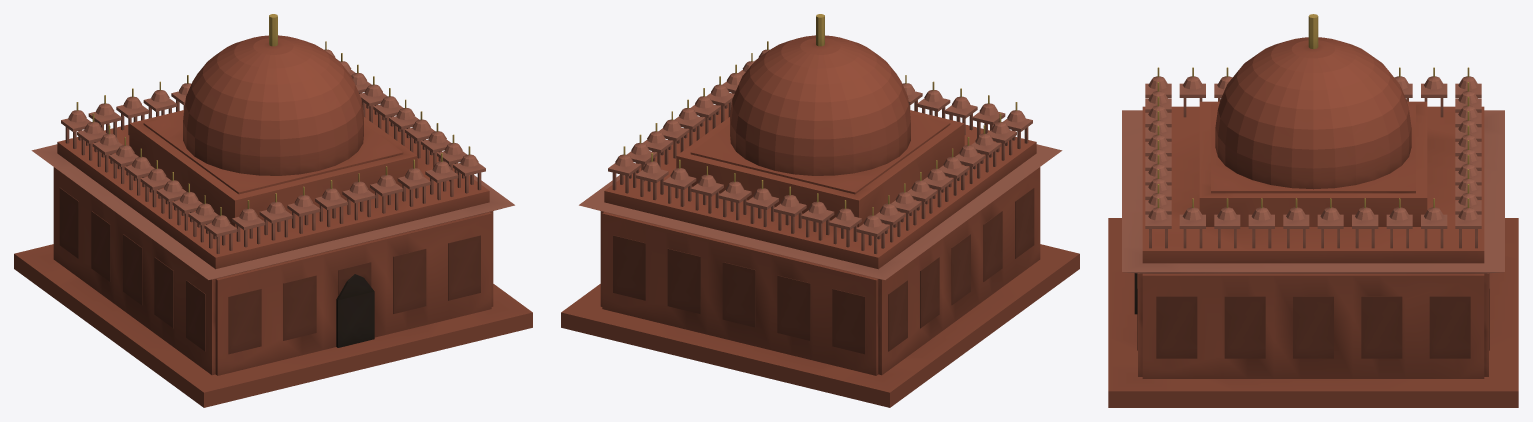
Rendered from islam-khan-tomb.glb.
The picture shows the model from 3 angles, left to right: view 1: azimuth 30°, elevation 25°; view 2: azimuth 150°, elevation 25°; view 3: azimuth 270°, elevation 25°; orthographic projection. The views are drawn at different scales.
Visible parts, largest first — view 1: p1_verandah, p2_dome and chhatris, p0_plinth; view 2: p1_verandah, p2_dome and chhatris, p0_plinth; view 3: p1_verandah, p2_dome and chhatris, p0_plinth.
Part boxes in pixels (bbox=[...]): p1_verandah: bbox=[31, 104, 514, 375]; p2_dome and chhatris: bbox=[61, 14, 485, 253]; p0_plinth: bbox=[14, 244, 532, 407]; p1_verandah: bbox=[579, 104, 1062, 375]; p2_dome and chhatris: bbox=[608, 14, 1032, 253]; p0_plinth: bbox=[561, 244, 1079, 407]; p1_verandah: bbox=[1122, 101, 1504, 378]; p2_dome and chhatris: bbox=[1145, 14, 1481, 248]; p0_plinth: bbox=[1108, 218, 1518, 407].
Size of the model in its own units: 18 by 14.78 by 18.
